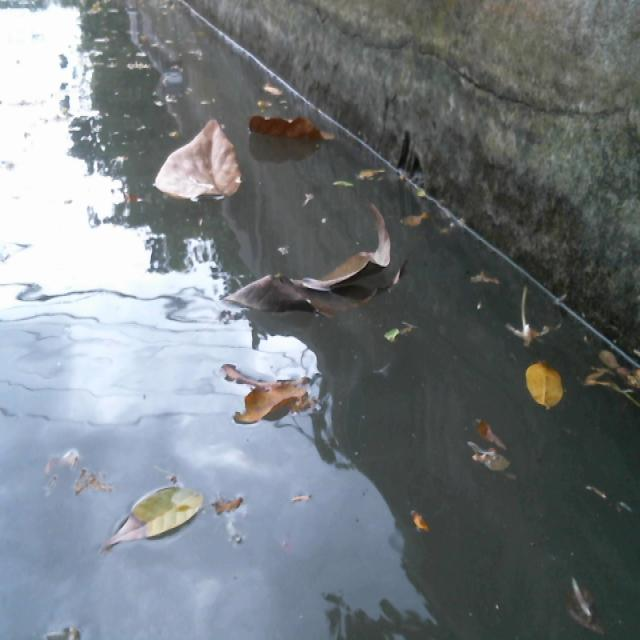Big-leaf: (208, 206, 400, 328), (221, 351, 332, 449), (156, 110, 240, 207), (249, 99, 346, 153)
Small-leaf: (102, 490, 210, 561), (465, 409, 509, 480), (568, 565, 609, 640), (402, 498, 449, 557), (522, 354, 566, 408), (379, 313, 425, 359), (399, 207, 448, 238), (215, 486, 245, 521), (464, 266, 502, 293), (256, 79, 287, 101), (324, 177, 358, 196), (356, 166, 386, 186)
